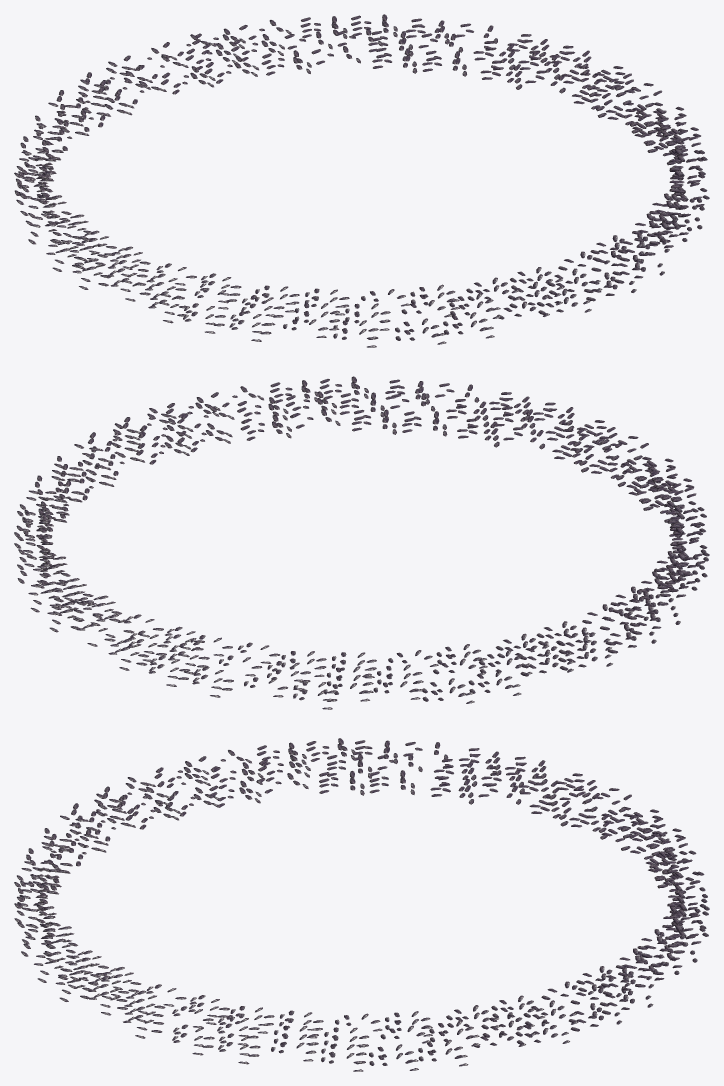
The model's file is Kuiper Belt.fbx.
The picture shows the model from 3 angles, top to bottom: view 1: azimuth 30°, elevation 25°; view 2: azimuth 150°, elevation 25°; view 3: azimuth 270°, elevation 25°; orthographic projection.
Visible parts, largest first — view 1: polySurface23, polySurface21, polySurface22; view 2: polySurface23, polySurface22, polySurface21; view 3: polySurface23, polySurface22, polySurface21.
Part boxes in pixels (x1,y1,x2,y2): polySurface23: (14,14,707,315); polySurface21: (14,46,709,347); polySurface22: (16,29,705,330); polySurface23: (14,376,706,678); polySurface22: (14,391,708,693); polySurface21: (17,409,709,709); polySurface23: (14,738,707,1038); polySurface22: (14,754,709,1054); polySurface21: (17,770,708,1071).
Bounding box in the file's own units: 21.79 × 1.65 × 21.78.
Materials: 1 (1 with a texture image).
